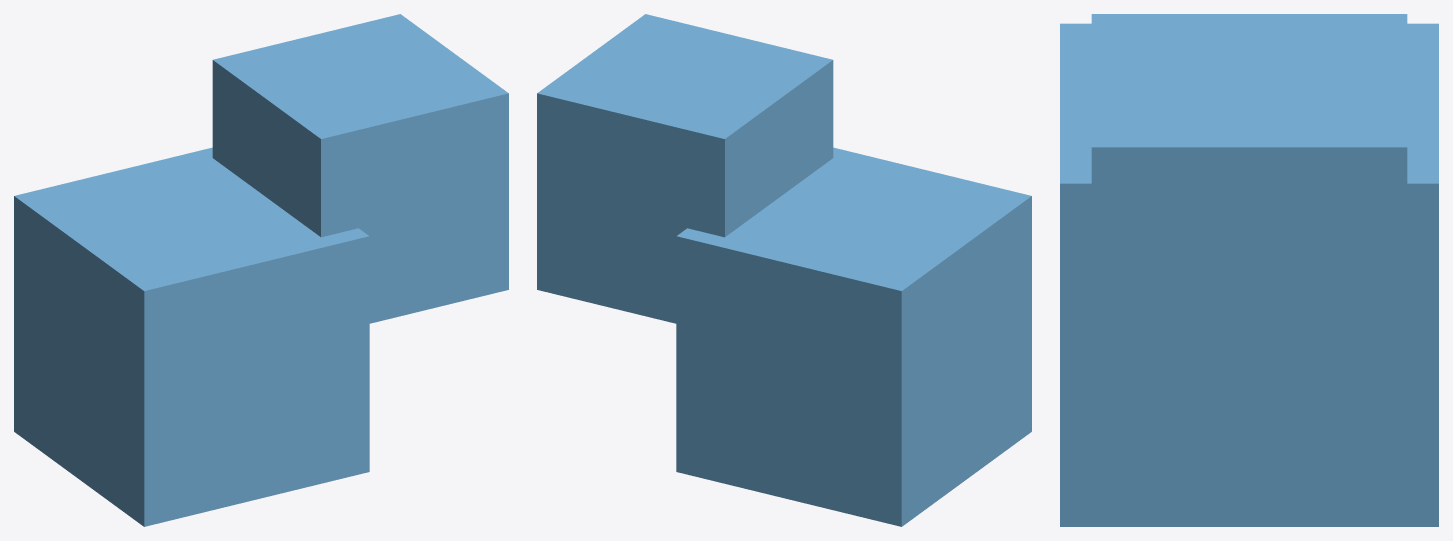
The model's file is generated_anim.fbx.
3 views of the same model, side by side, from view 1: azimuth 30°, elevation 25°; view 2: azimuth 150°, elevation 25°; view 3: azimuth 270°, elevation 25° (orthographic). The views are drawn at different scales.
Parts seen in each view (by area): view 1: TestCharacter; view 2: TestCharacter; view 3: TestCharacter.
Boxes of the visible parts, box(x1,y1,x2,y2) form: TestCharacter: box(14, 14, 508, 526); TestCharacter: box(537, 14, 1031, 526); TestCharacter: box(1060, 14, 1438, 526).
Bounding box in the file's own units: 1 × 0.85 × 0.6.
